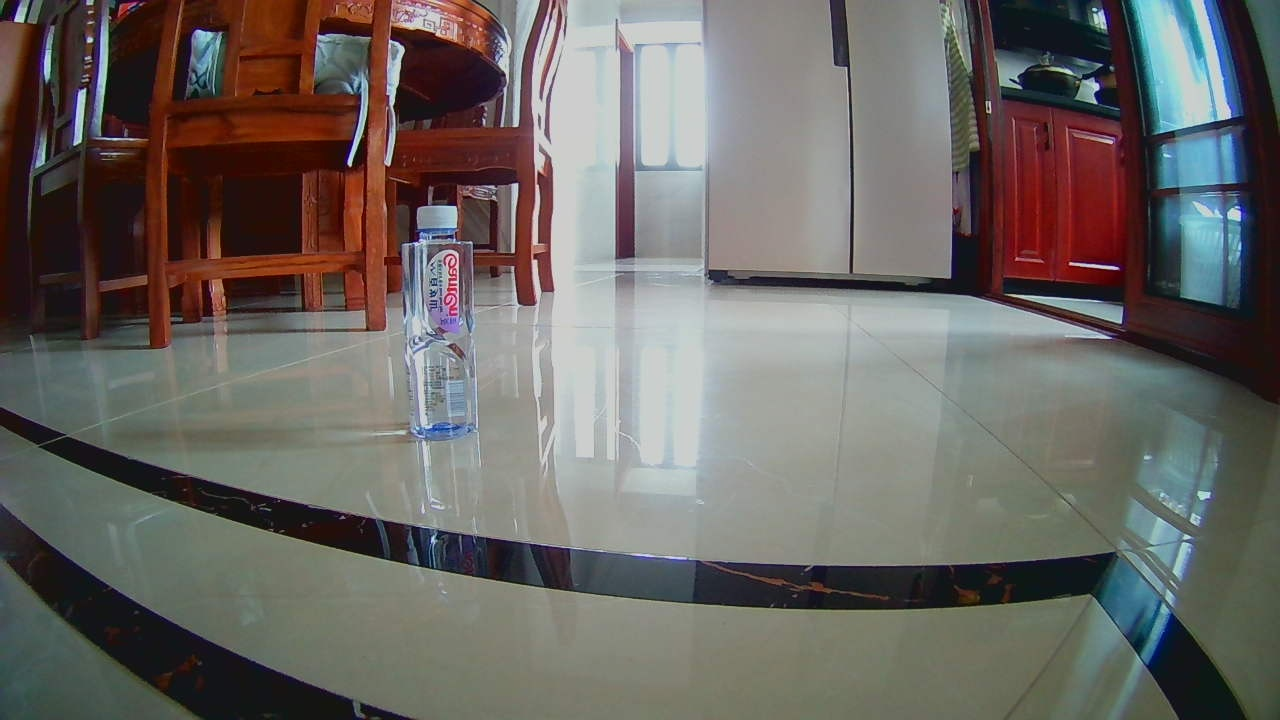water: (402, 205, 475, 438)
